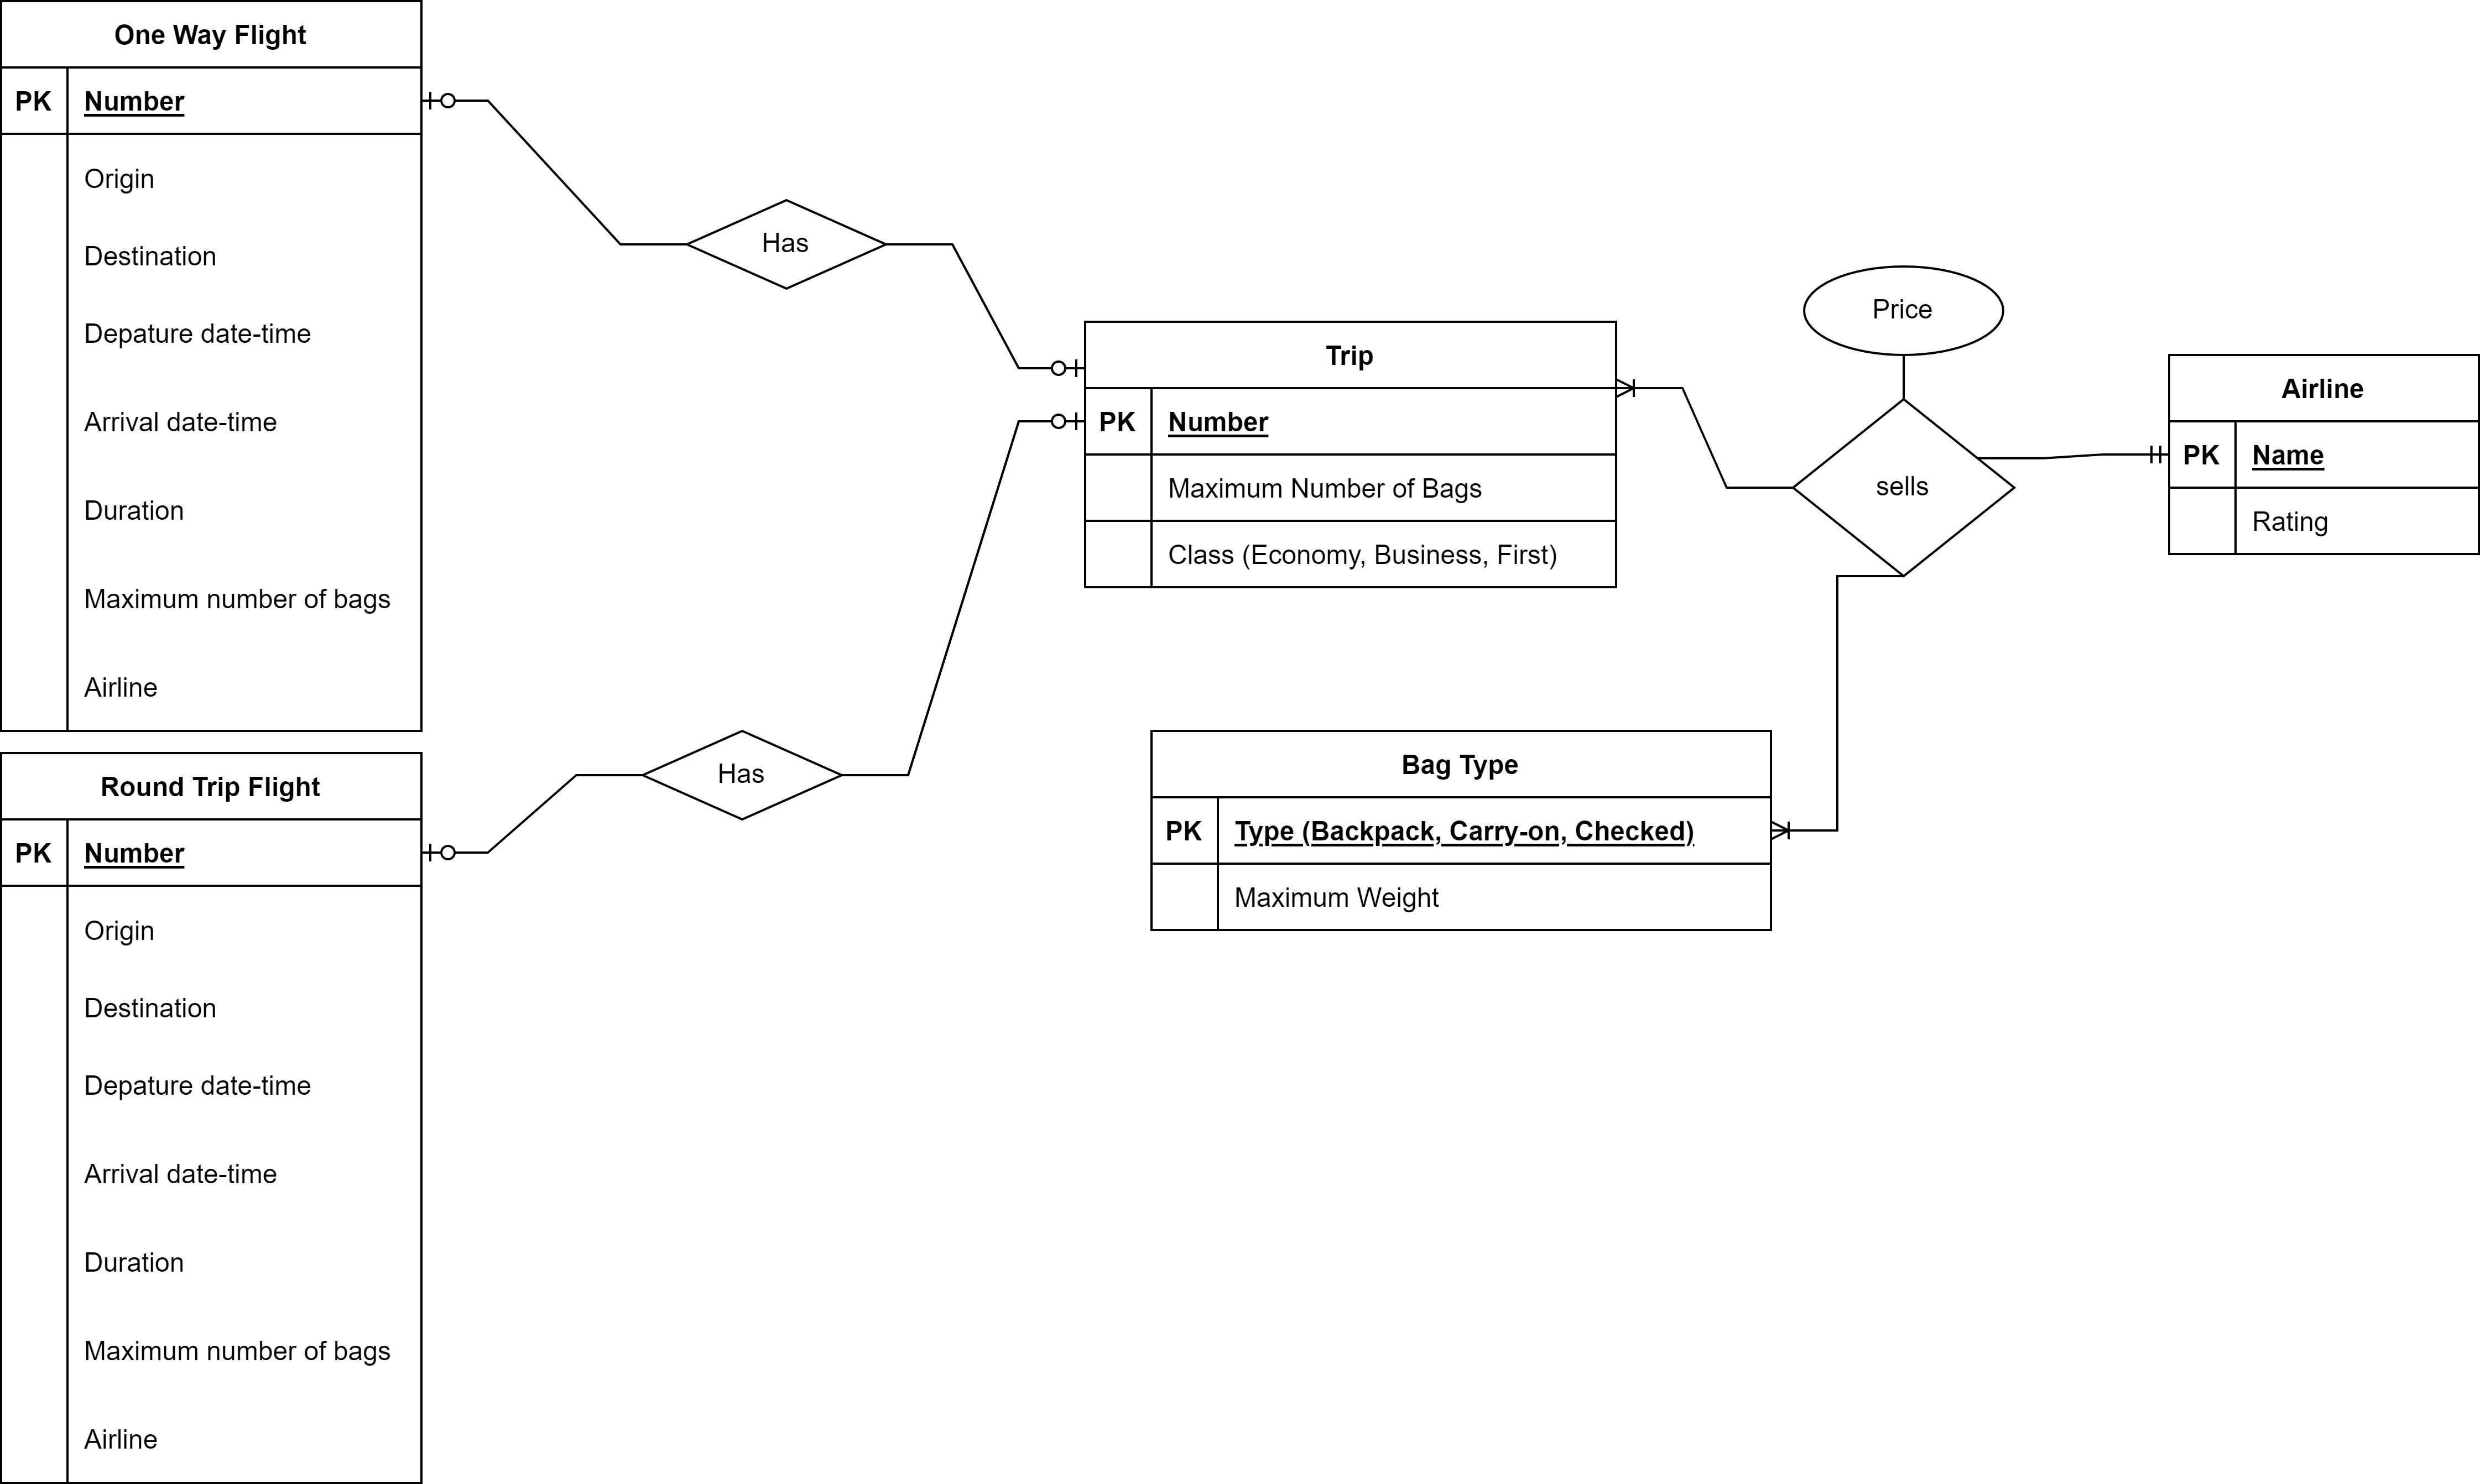attribute: (1800, 263, 2003, 357)
entity: (0, 0, 424, 738), (0, 747, 424, 1484), (1079, 318, 1620, 590), (1145, 730, 1775, 938), (2160, 348, 2480, 558)
relationship: (1795, 405, 2019, 572), (689, 194, 887, 293), (645, 730, 835, 820)
